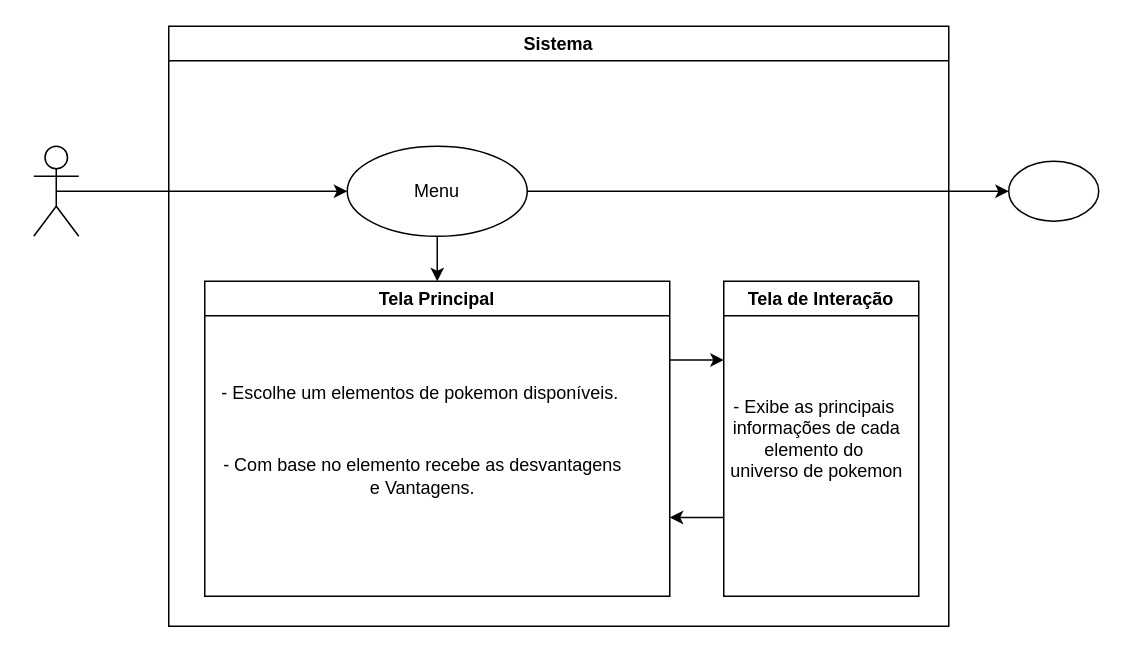
The diagram is 1125 pixels wide and 653 high, and some of its shapes have lost their labels. The centre of each missing label's shape, as x and y in pixels:
"Sair" goes at point 1053,190.
"Usuario" goes at point 55,190.
